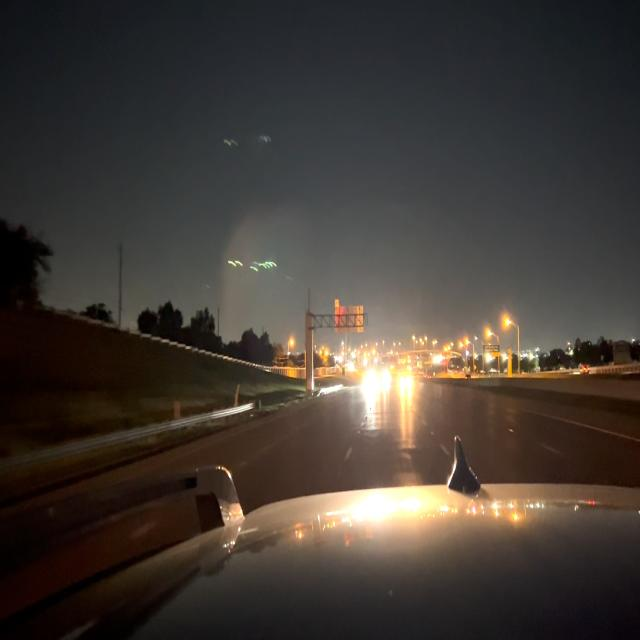back-of-sign: (336, 306, 364, 332)
